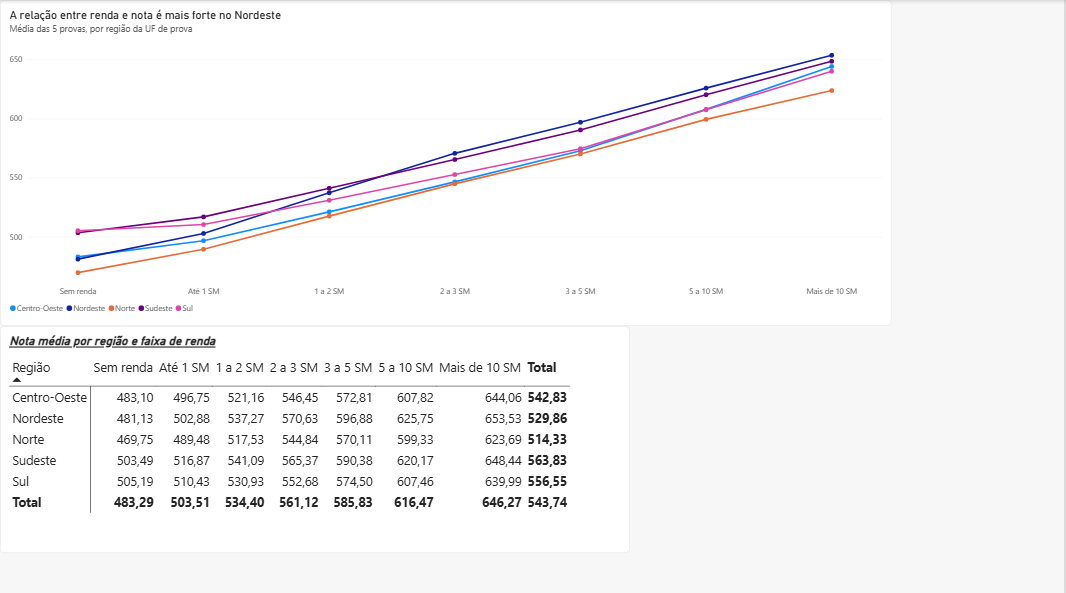

Layout of this report page (visuals, bound fields, positions):
{"tool":"powerbi","page":{"name":"Renda e Região","canvas":[1920,1080],"ordinal":1},"visuals":[{"type":"lineChart","title":"A relação entre renda e nota é mais forte no Nordeste","fields":{"Category":["dRenda.FAIXA_RENDA"],"Series":["dUF.REGIAO"],"Y":["fEnem.Nota Média"]},"box":[0,0,1609.8,588.2],"z":0},{"type":"pivotTable","title":"Nota média por região e faixa de renda","fields":{"Columns":["dRenda.FAIXA_RENDA"],"Rows":["dUF.REGIAO"],"Values":["fEnem.Nota Média"]},"box":[0,588.2,1137.3,409.8],"z":1}]}

Visuals, with their boxes in screenshot pixels (x1, y1, x2, y2), scaled from the page's 1920x1080 canvas onto the 1066x593 screenshot:
"A relação entre renda e nota é mais forte no Nordeste" lineChart: [x1=0, y1=0, x2=894, y2=323]
"Nota média por região e faixa de renda" pivotTable: [x1=0, y1=323, x2=631, y2=548]
